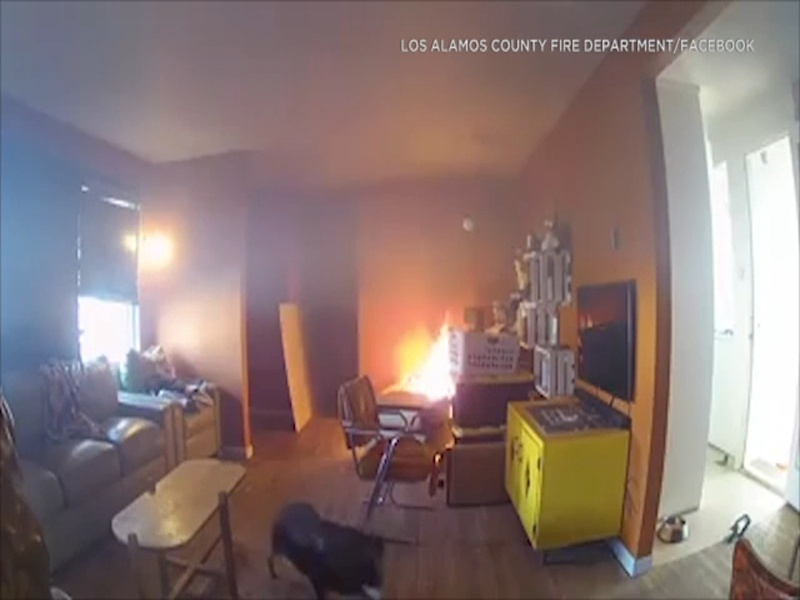fire: (400, 311, 454, 399)
